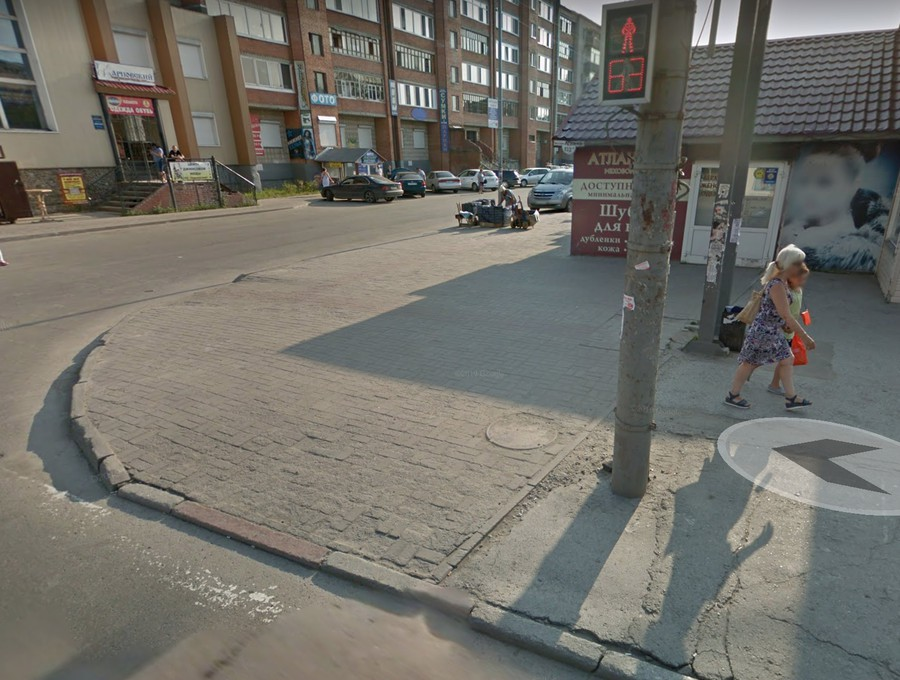Traffic Light-red: (599, 4, 657, 107)
